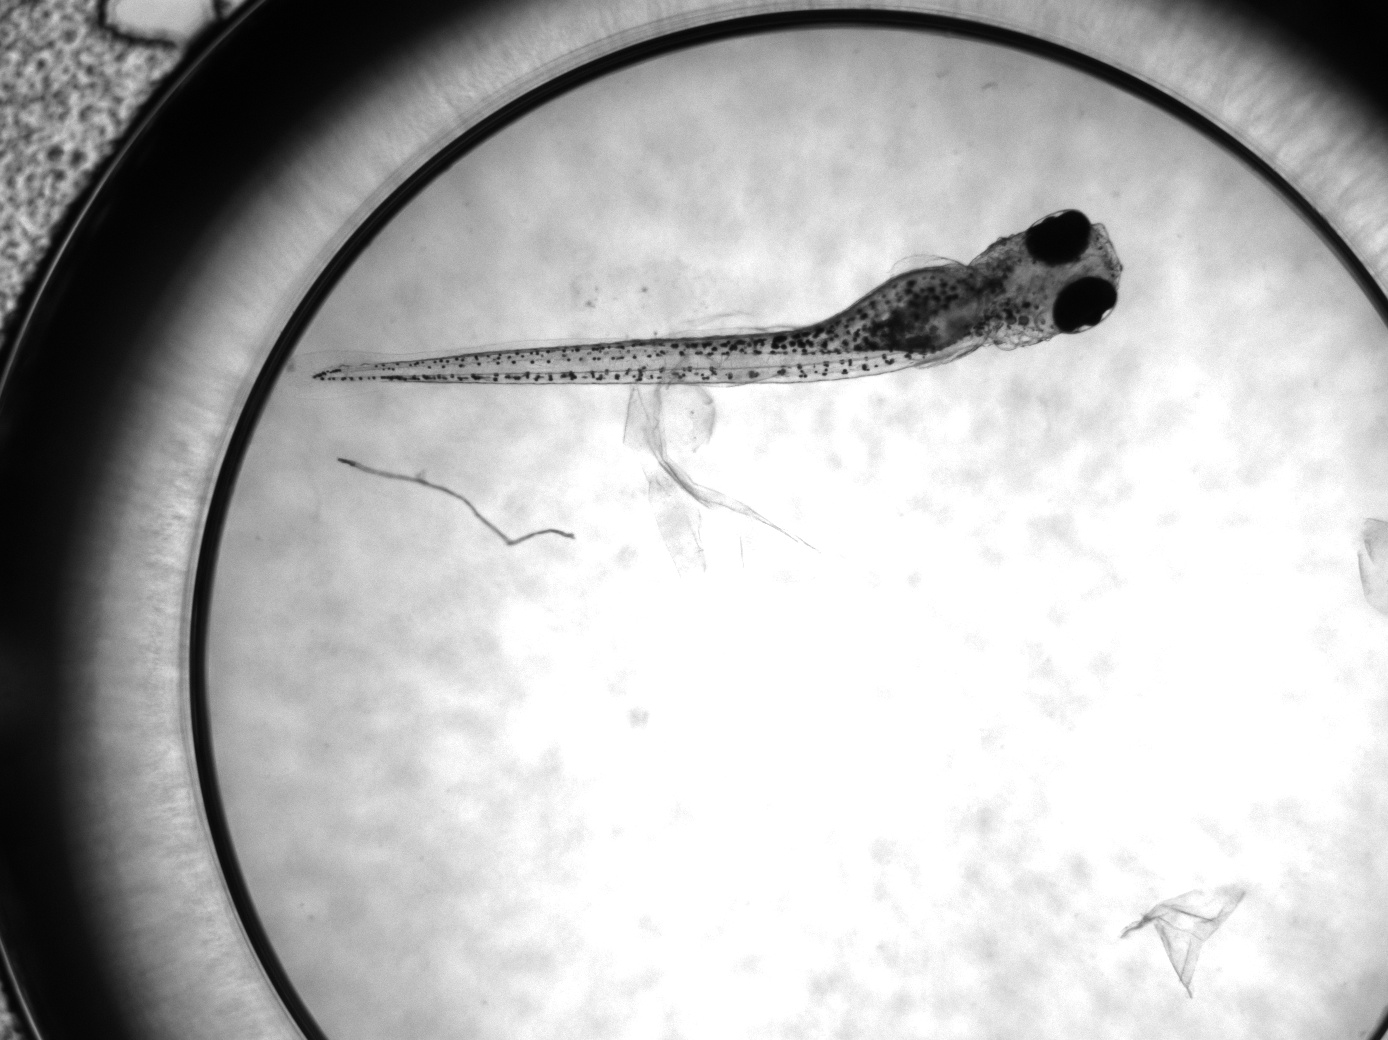debris: (621, 385, 820, 579), (339, 458, 576, 547), (1119, 883, 1254, 1002)
embryo: (312, 210, 1123, 381)
eye: (1021, 209, 1091, 265), (1052, 274, 1117, 334)
yolksac: (818, 262, 993, 362)
